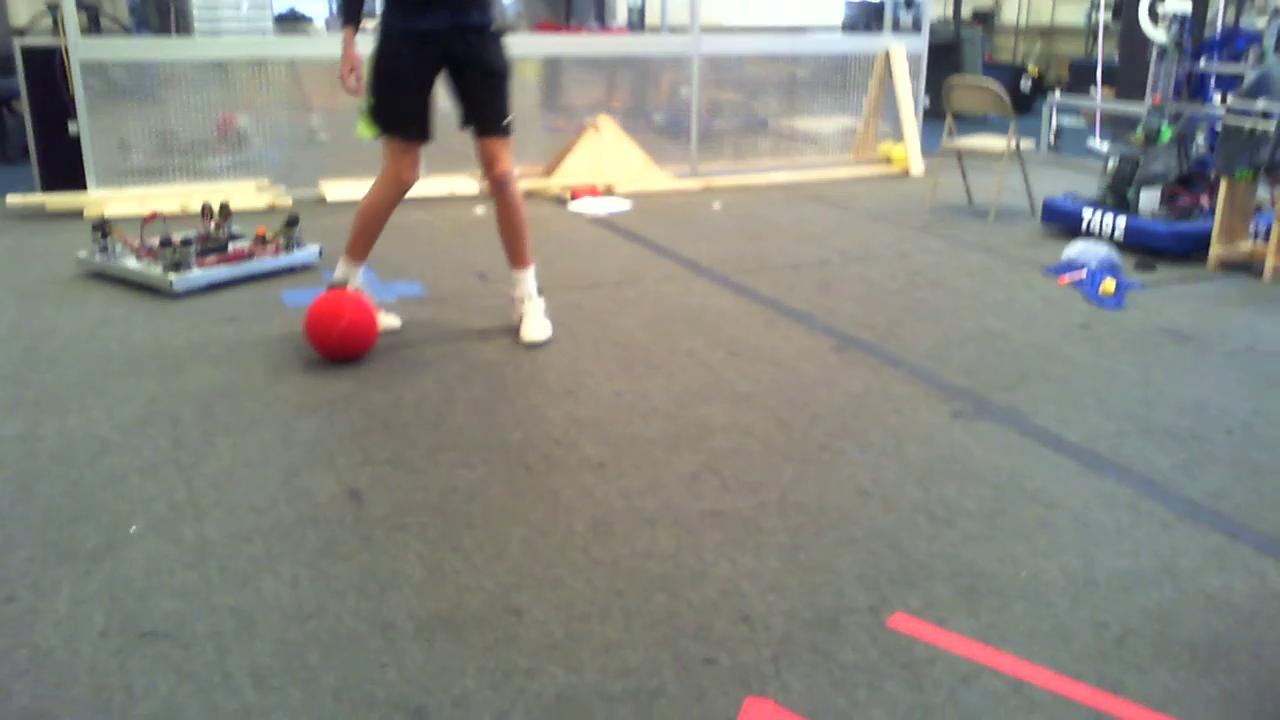Red_Ball: (291, 277, 386, 367)
